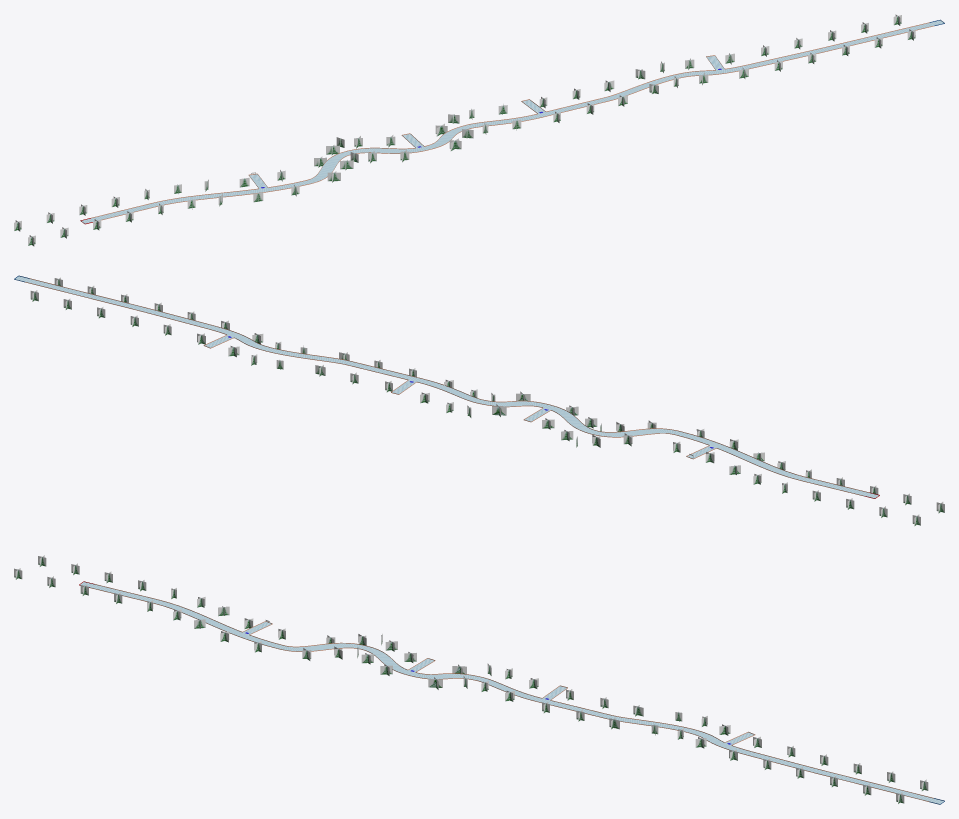
Rendered from BiathlonTrack.glb.
3 views of the same model, one above another, from view 1: azimuth 30°, elevation 25°; view 2: azimuth 150°, elevation 25°; view 3: azimuth 330°, elevation 25° (orthographic). The views are drawn at different scales.
Parts seen in each view (by area): view 1: HillFloor, Tree, Tree.003, HillFence; view 2: HillFloor, Tree.003, Tree, HillFence; view 3: HillFloor, Tree, Tree.003, HillFence.
Part boxes in pixels (x1,y1,x2,y2): HillFloor: (81,20,943,223); Tree: (28,29,915,246); Tree.003: (14,14,901,231); HillFence: (91,22,933,220); HillFloor: (15,276,878,498); Tree.003: (30,290,920,526); Tree: (54,277,944,513); HillFence: (25,278,868,496); HillFloor: (80,582,943,803); Tree: (14,568,904,803); Tree.003: (38,555,928,791); HillFence: (90,584,933,801).
Size of the model in its own units: 224 by 2.02 by 18.
20 materials, 16 textured.
